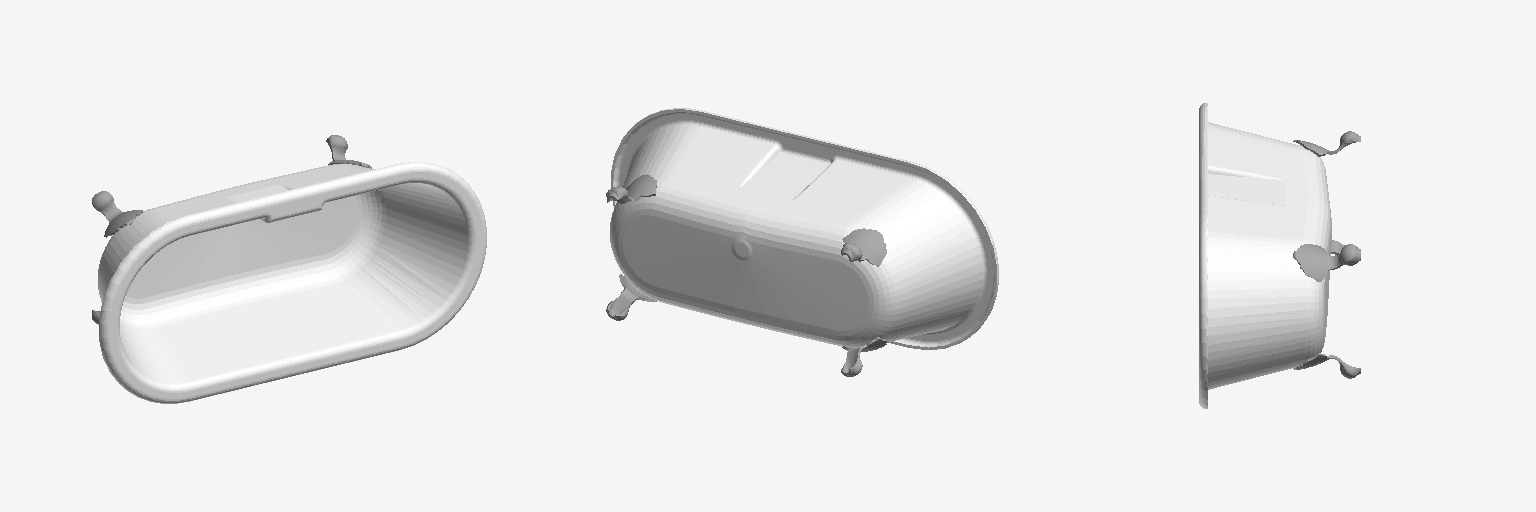
Rendered from cat36_bathtub.obj.
3 views of the same model, side by side, from view 1: azimuth 30°, elevation 25°; view 2: azimuth 150°, elevation 25°; view 3: azimuth 270°, elevation 25° (orthographic).
Parts seen in each view (by area): view 1: Group#1, Claw foot 4, Claw foot 2; view 2: Group#1, Claw foot 4, Claw foot 2, Claw foot 3, Claw foot; view 3: Group#1, Claw foot 2, Claw foot 3, Claw foot 4.
Part boxes in pixels (x1,y1,x2,y2): Group#1: (98, 162, 486, 403); Claw foot 4: (92, 191, 142, 237); Claw foot 2: (326, 135, 371, 168); Group#1: (610, 108, 998, 349); Claw foot 4: (841, 228, 886, 266); Claw foot 2: (606, 174, 656, 203); Claw foot 3: (606, 274, 656, 320); Claw foot: (841, 337, 886, 376); Group#1: (1199, 103, 1331, 408); Claw foot 2: (1293, 244, 1360, 281); Claw foot 3: (1293, 353, 1360, 378); Claw foot 4: (1293, 131, 1360, 156).
Bounding box in the file's own units: 1760 × 806 × 638.